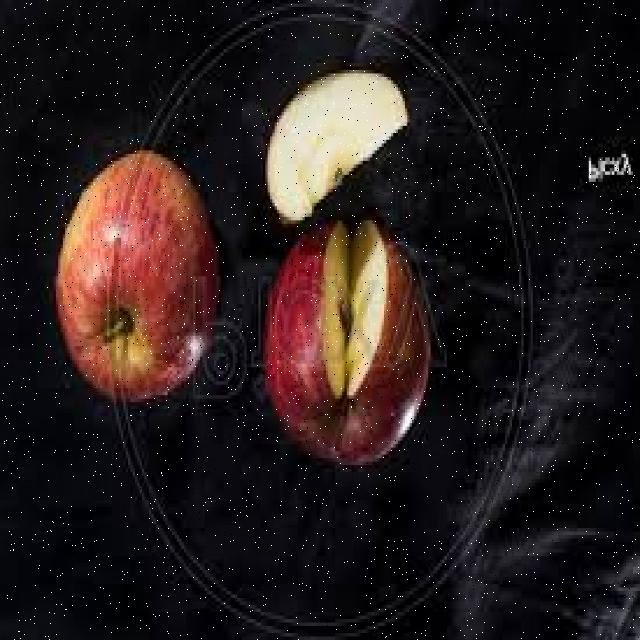Apple: (265, 219, 429, 464), (56, 155, 216, 401), (265, 74, 410, 219)
